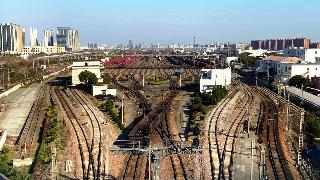train: (126, 100, 170, 150)
